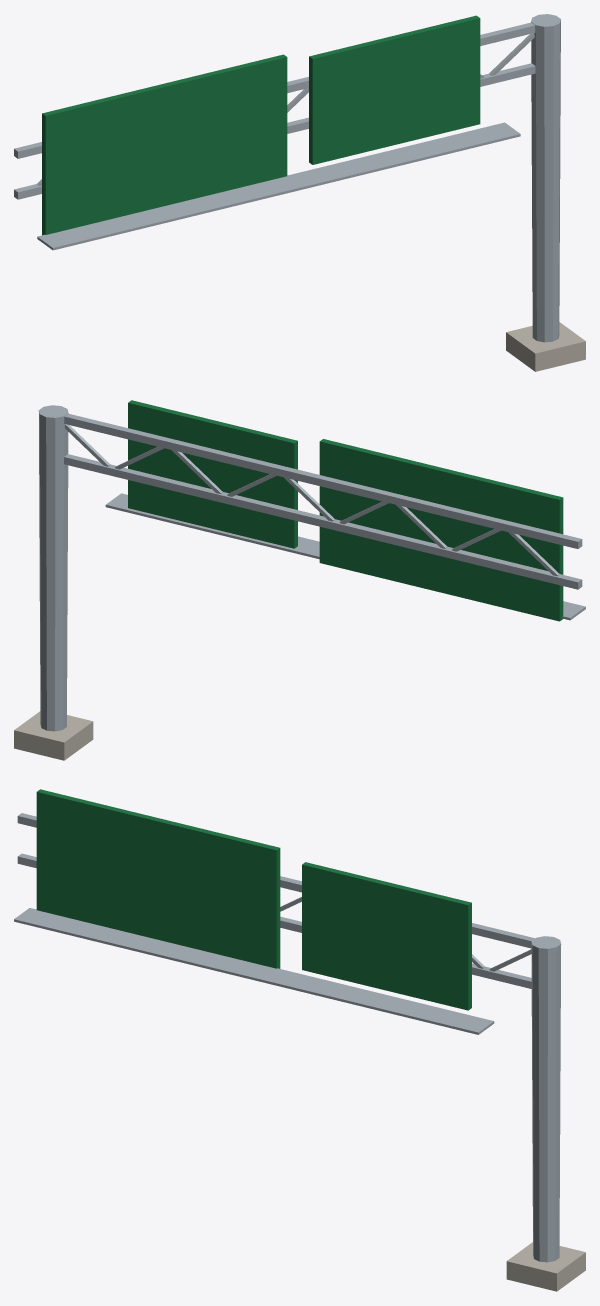
The model's file is exits_gantry.glb.
The picture shows the model from 3 angles, top to bottom: view 1: azimuth 30°, elevation 25°; view 2: azimuth 150°, elevation 25°; view 3: azimuth 330°, elevation 25°; orthographic projection.
Parts seen in each view (by area): view 1: ExitsGantry_body; view 2: ExitsGantry_body; view 3: ExitsGantry_body.
Boxes of the visible parts, x1,y1,x2,y2 form: ExitsGantry_body: (14, 14, 585, 371); ExitsGantry_body: (14, 400, 585, 760); ExitsGantry_body: (14, 789, 585, 1291).
Size of the model in its own units: 14.25 by 9 by 1.6.
